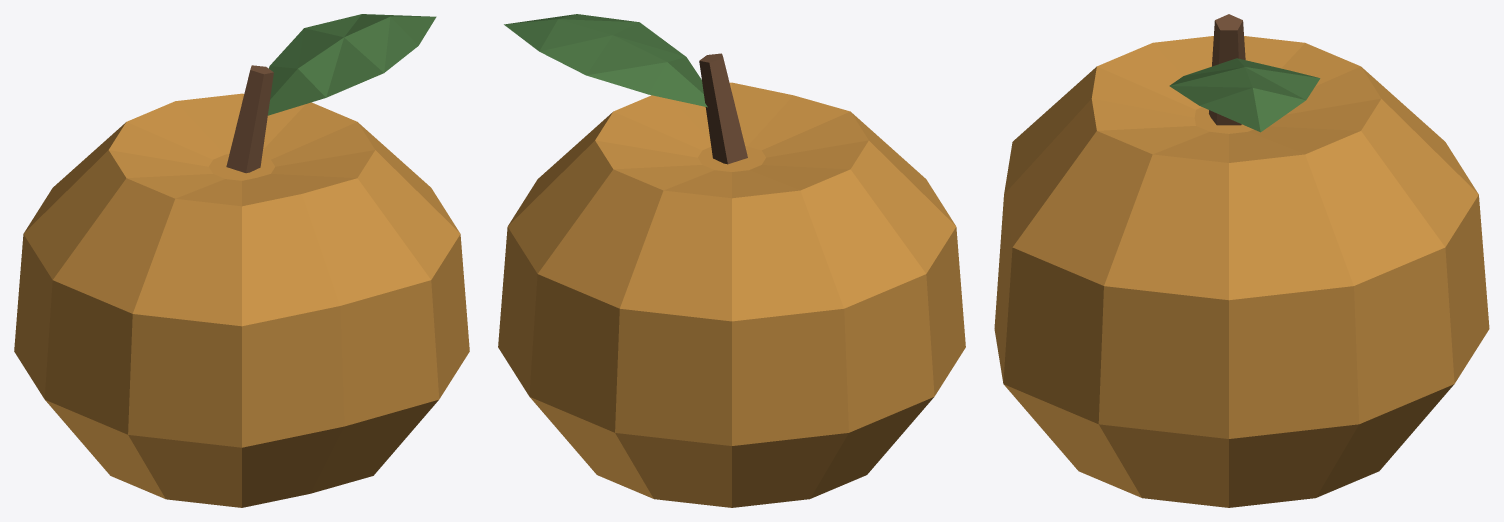
File: apricot.glb
3 views of the same model, side by side, from view 1: azimuth 30°, elevation 25°; view 2: azimuth 150°, elevation 25°; view 3: azimuth 270°, elevation 25° (orthographic). The views are drawn at different scales.
Parts seen in each view (by area): view 1: item; view 2: item; view 3: item.
Boxes of the visible parts, x1,y1,x2,y2 form: item: (14,14,469,507); item: (498,14,965,507); item: (994,14,1489,507).
Bounding box in the file's own units: 0.253 × 0.2518 × 0.2337.
